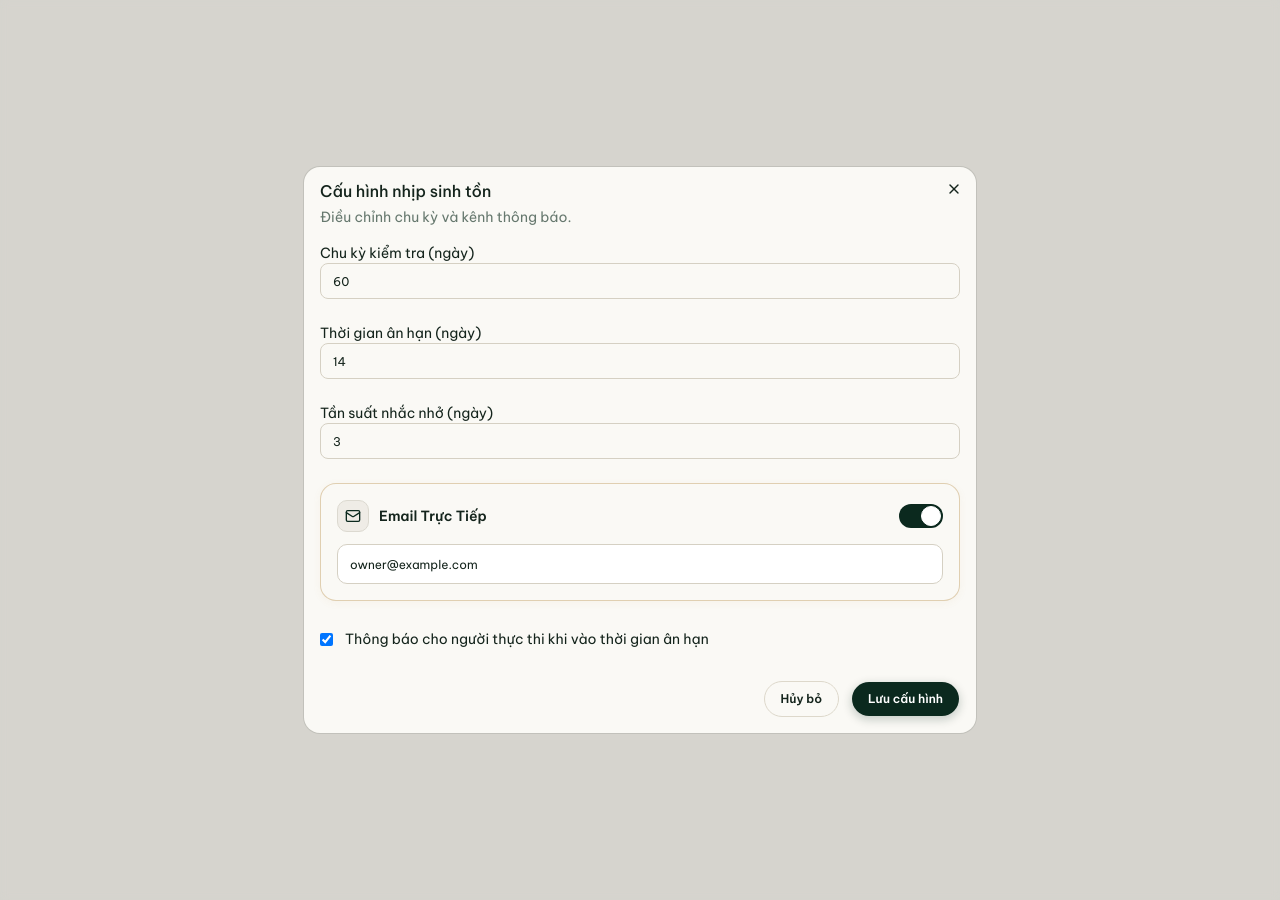
DMS config form › kênh nhận rỗng chỉ báo lỗi sau blur
Clear the field named "Email Trực Tiếp - địa chỉ nhận" at (640, 564), box [337,544,943,584]
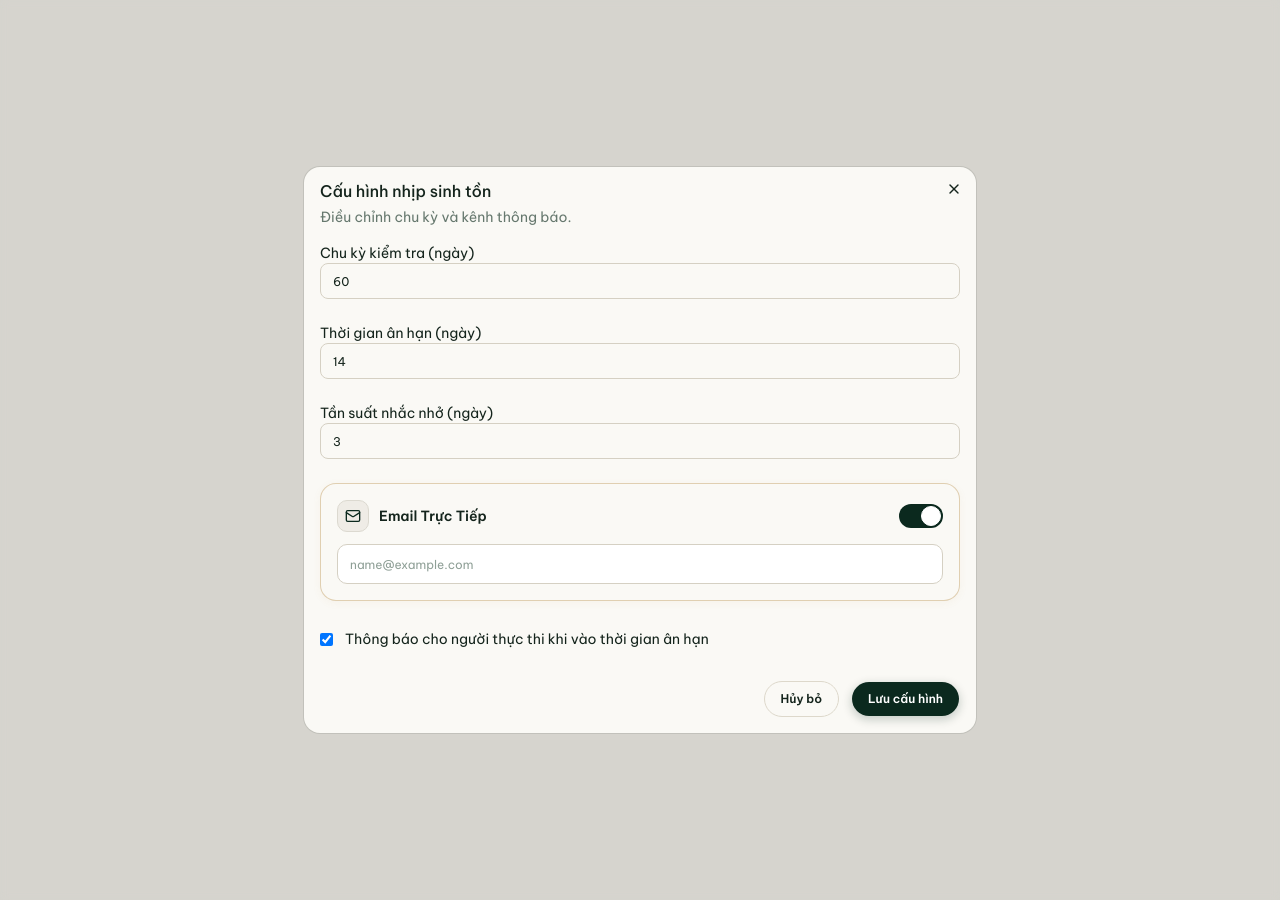
Leave the field named "Email Trực Tiếp - địa chỉ nhận", box [337,544,943,584]
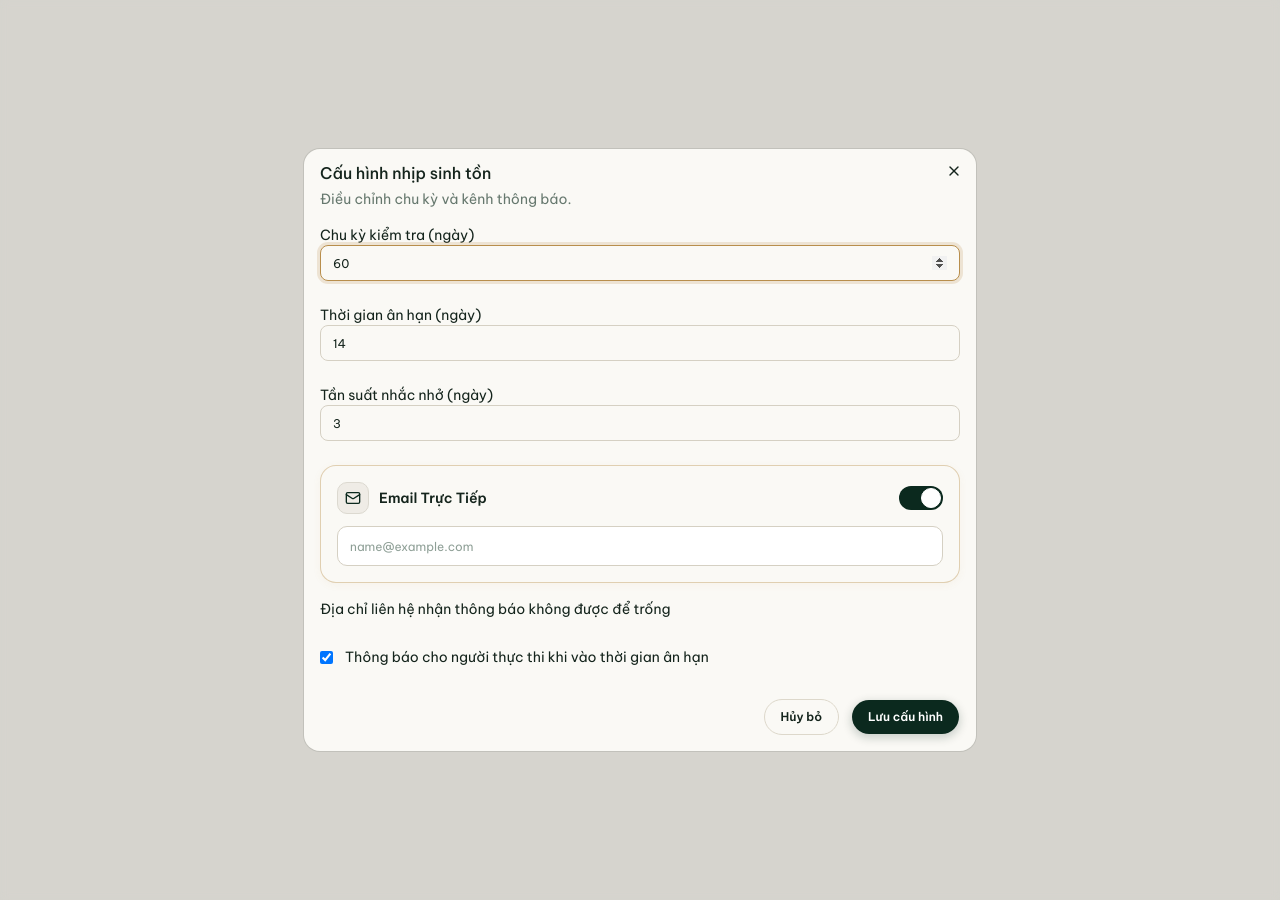
Now the text "Địa chỉ liên hệ nhận thông báo không được để trống" is shown, box [320,600,670,618]
